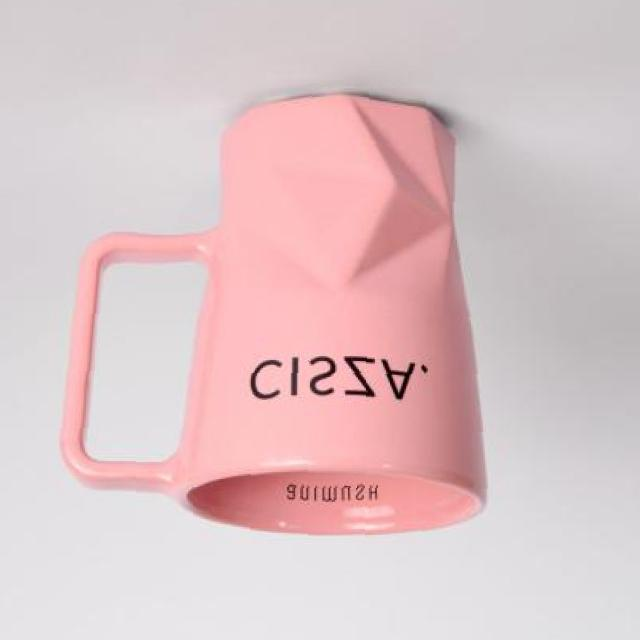cup: (52, 85, 511, 546)
